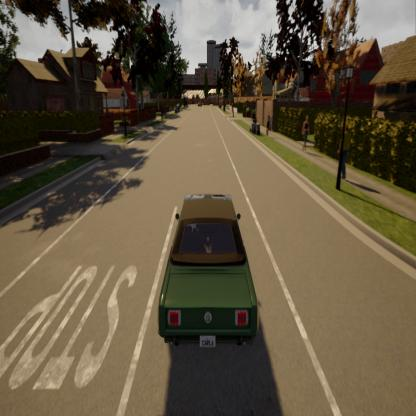Cars: (158, 196, 258, 351)
Pedestrian: (338, 119, 349, 182), (302, 115, 310, 151), (266, 114, 271, 136)
